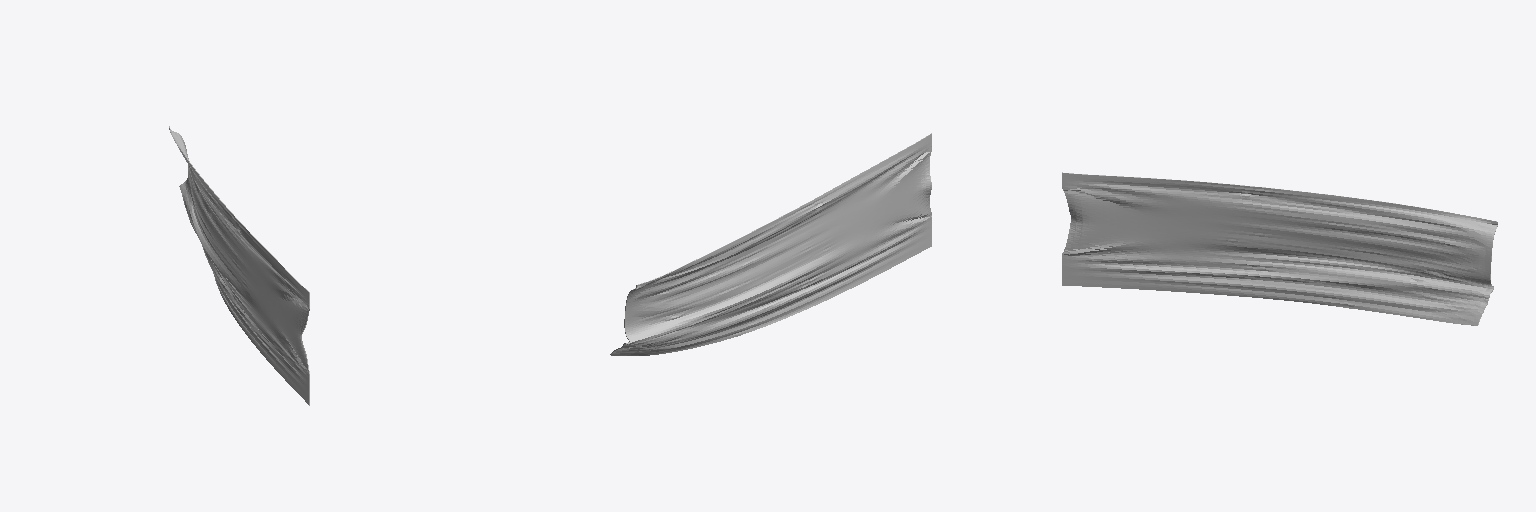
File: banner.obj
The picture shows the model from 3 angles: view 1: azimuth 30°, elevation 25°; view 2: azimuth 150°, elevation 25°; view 3: azimuth 270°, elevation 25°; orthographic projection.
Visible parts, largest first — view 1: sponza_04; view 2: sponza_04; view 3: sponza_04.
Part boxes in pixels (x1,y1,x2,y2): sponza_04: (169,126,309,405); sponza_04: (610,133,931,355); sponza_04: (1062,172,1497,325).
Bounding box in the file's own units: 313 × 285 × 995.